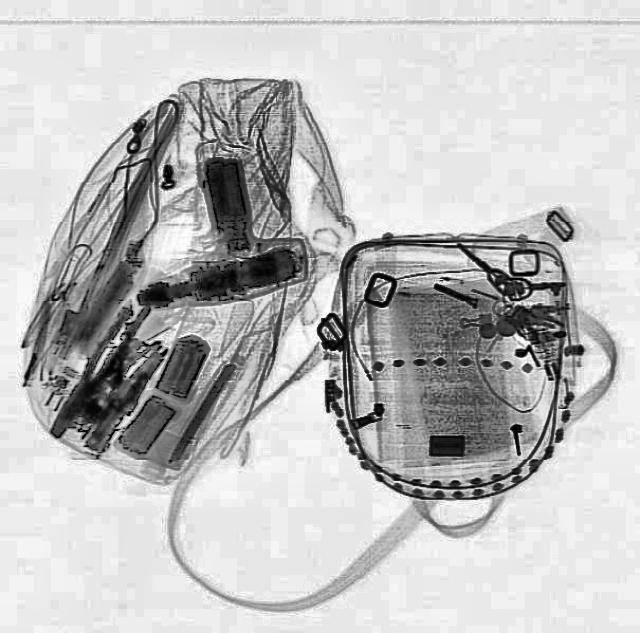Pliers: (54, 294, 154, 422)
